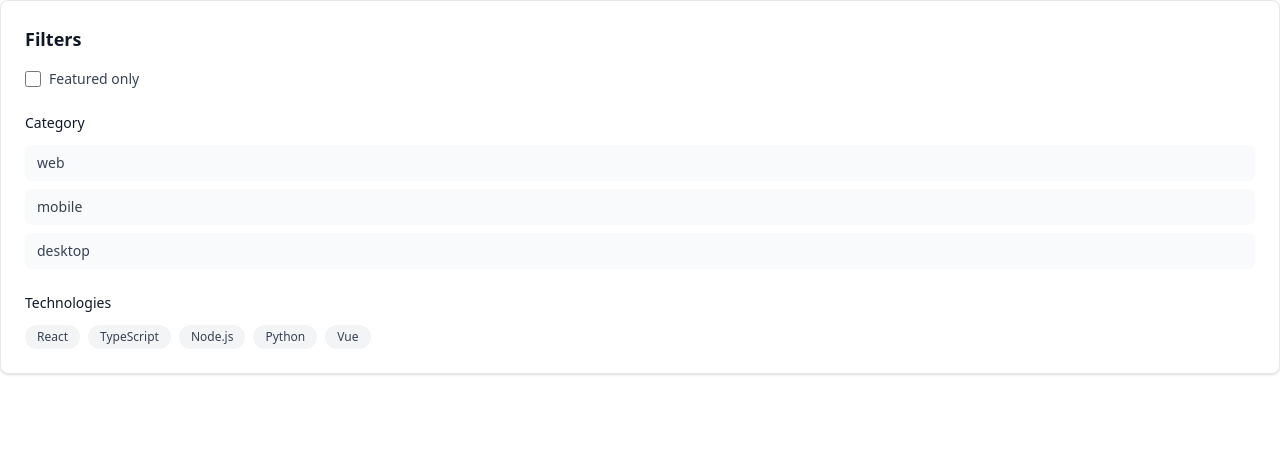
ProjectFilters › Active Filters Summary › should update summary when filters change
The width and height of the screenshot is (1280, 453).
Apply featured filter
Click the checkbox named "Show only featured projects": (33, 79) top-left (25, 71), bottom-right (41, 87)
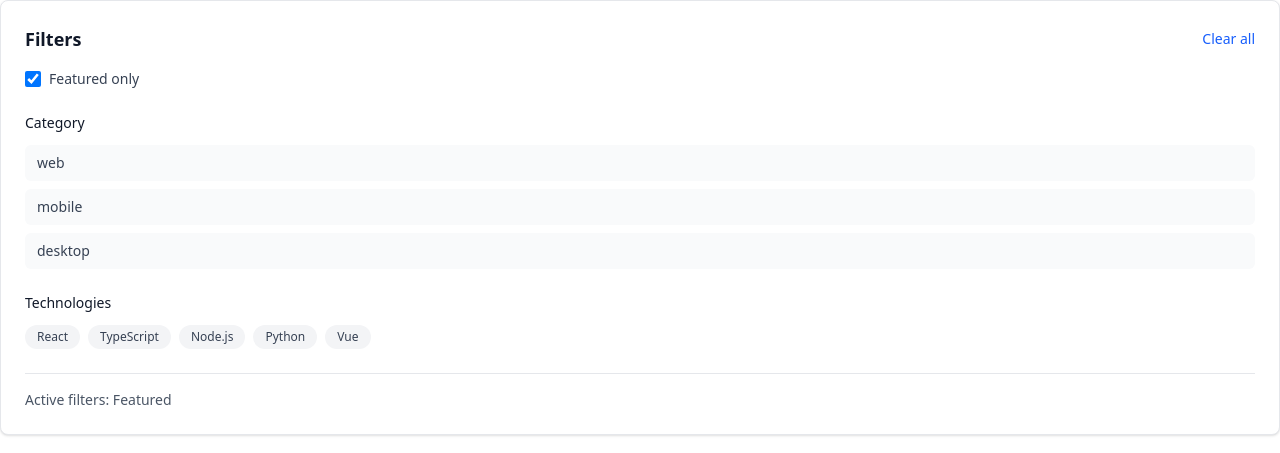
Now the message reads "Active filters: Featured", box top-left (25, 390), bottom-right (172, 409)
Add category filter
Click the button "web": (51, 162) top-left (25, 145), bottom-right (1255, 181)
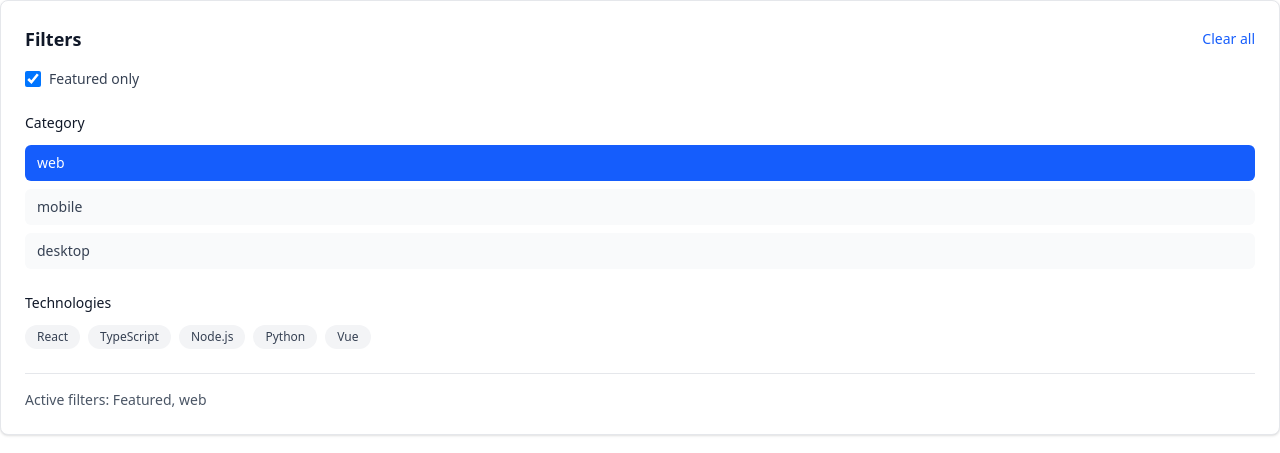
Now the message reads "Active filters: Featured, web", box top-left (25, 390), bottom-right (206, 409)
Remove featured filter
Click the checkbox named "Show only featured projects": (33, 79) top-left (25, 71), bottom-right (41, 87)
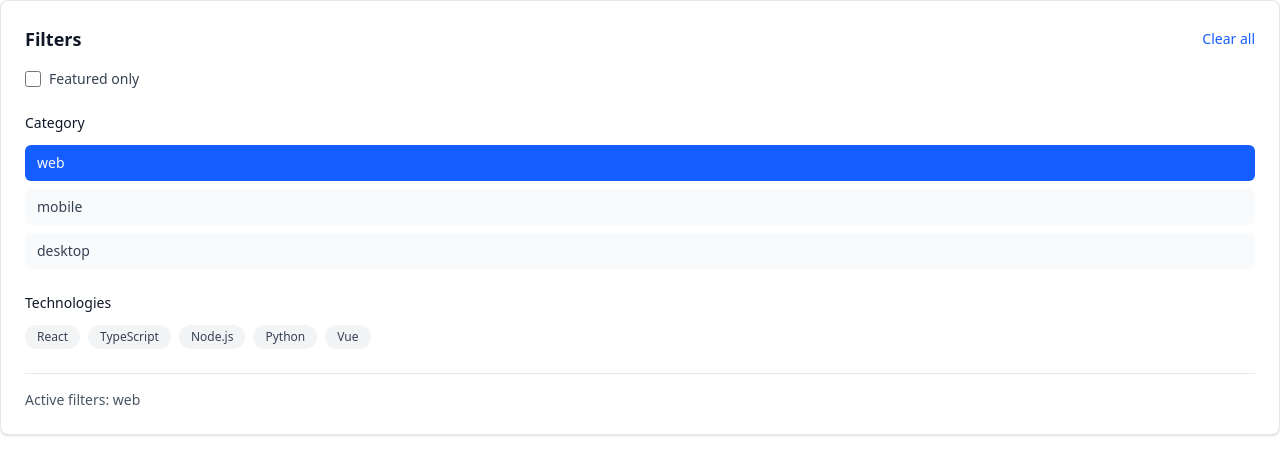
Now the message reads "Active filters: web", box top-left (25, 390), bottom-right (140, 409)
